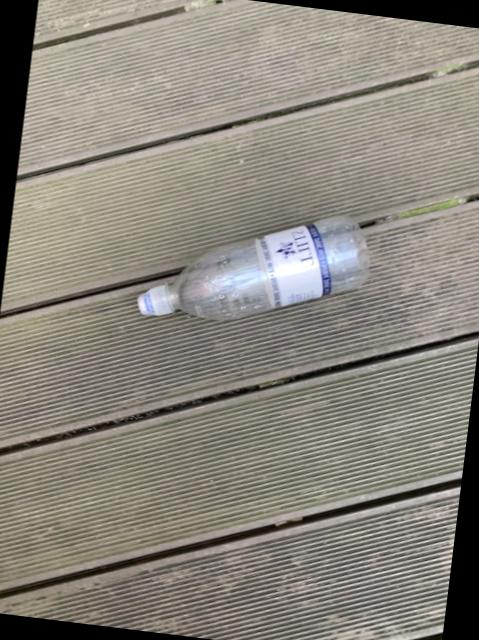plastic: (139, 213, 370, 317)
